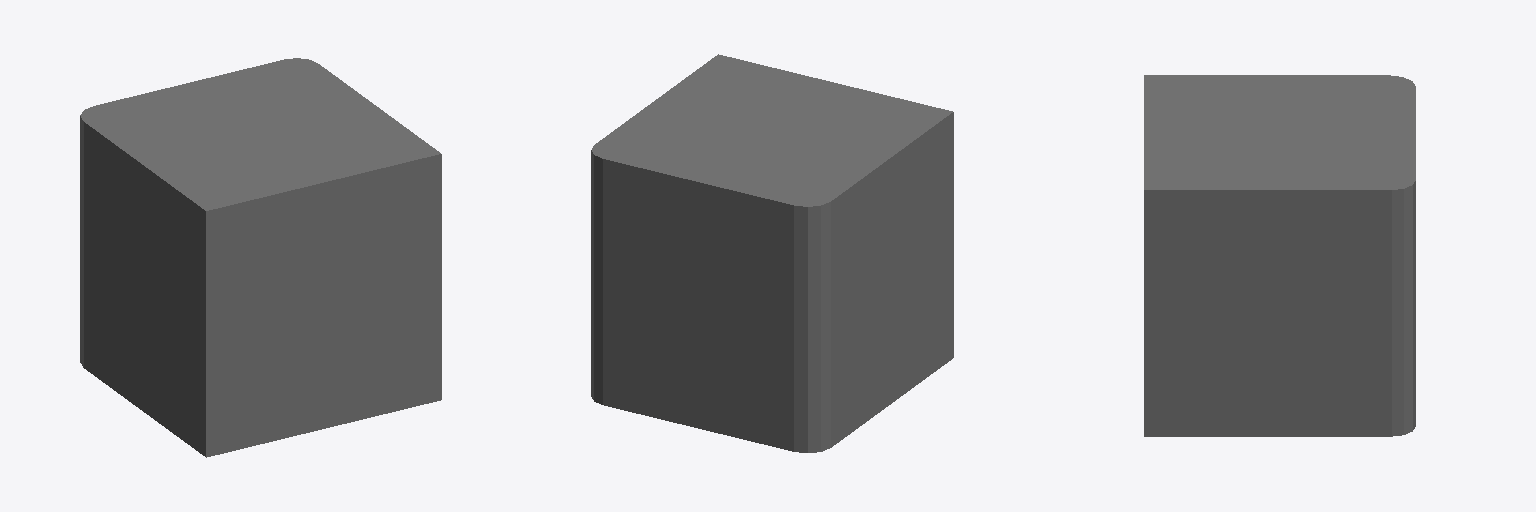
Rendered from block2.obj.
The picture shows the model from 3 angles: view 1: azimuth 30°, elevation 25°; view 2: azimuth 150°, elevation 25°; view 3: azimuth 270°, elevation 25°; orthographic projection.
Visible parts, largest first — view 1: block6:pCube2; view 2: block6:pCube2; view 3: block6:pCube2.
Part boxes in pixels (x1,y1,x2,y2): block6:pCube2: (80, 58, 441, 457); block6:pCube2: (591, 54, 953, 452); block6:pCube2: (1144, 75, 1415, 436).
Bounding box in the file's own units: 1 × 1 × 1.